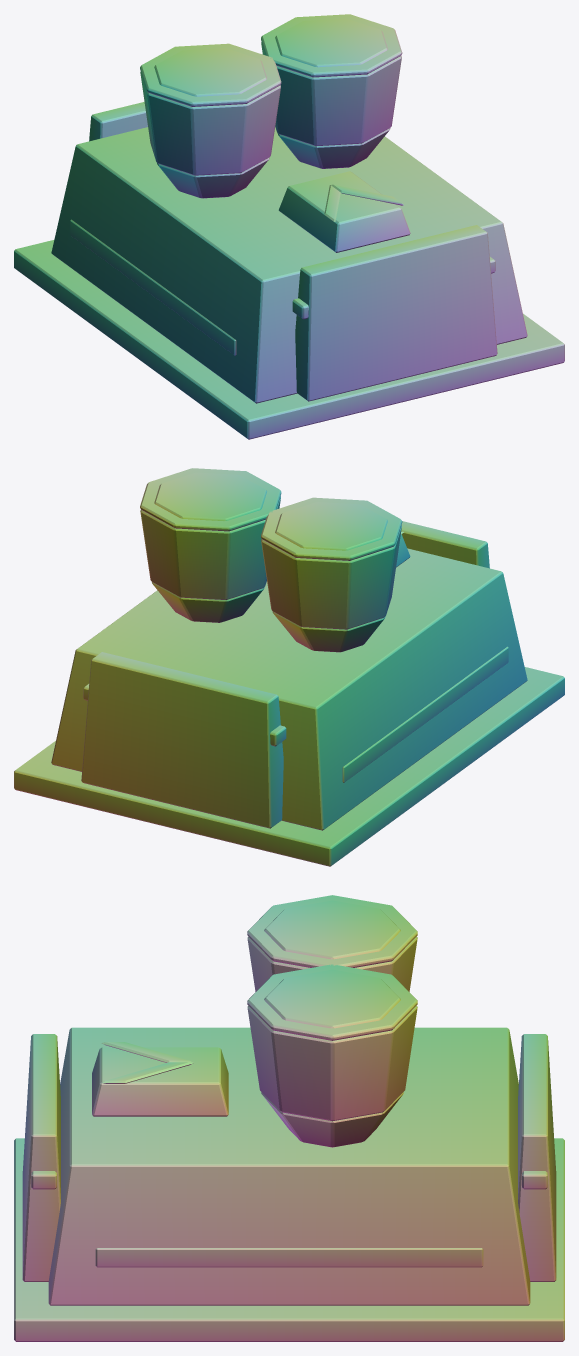
File: module_twin_rig.glb
3 renders of one model, top to bottom at view 1: azimuth 30°, elevation 25°; view 2: azimuth 150°, elevation 25°; view 3: azimuth 270°, elevation 25°, orthographic. The views are drawn at different scales.
Visible parts, largest first — view 1: body; view 2: body; view 3: body.
Part boxes in pixels (x1=…): body: x1=14, y1=14, x2=564, y2=439; body: x1=14, y1=468, x2=564, y2=866; body: x1=14, y1=895, x2=564, y2=1341.
Bounding box in the file's own units: 10 × 7.4 × 12.8.
